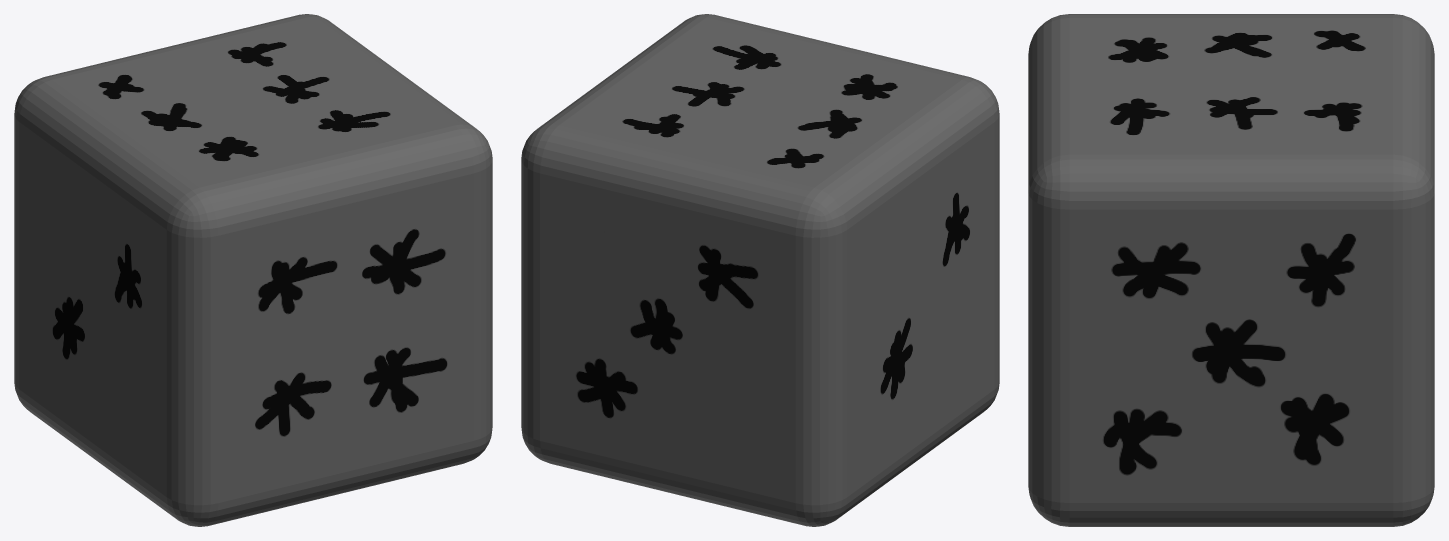
The model's file is dice1.fbx.
3 renders of one model, left to right at view 1: azimuth 30°, elevation 25°; view 2: azimuth 150°, elevation 25°; view 3: azimuth 270°, elevation 25°, orthographic. The views are drawn at different scales.
Visible parts, largest first — view 1: Cube; view 2: Cube; view 3: Cube.
Part boxes in pixels (bbox=[...]): Cube: bbox=[14, 14, 492, 526]; Cube: bbox=[521, 14, 999, 526]; Cube: bbox=[1028, 14, 1434, 526].
Bounding box in the file's own units: 200 × 200 × 200.
1 material, 1 textured.
